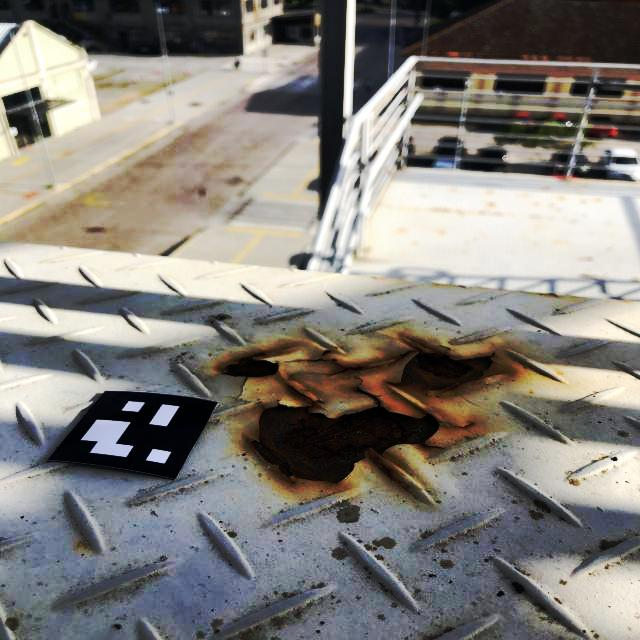Corrosion: (250, 406, 439, 484), (400, 336, 511, 396), (305, 346, 416, 406), (222, 351, 278, 377), (290, 386, 322, 409)
